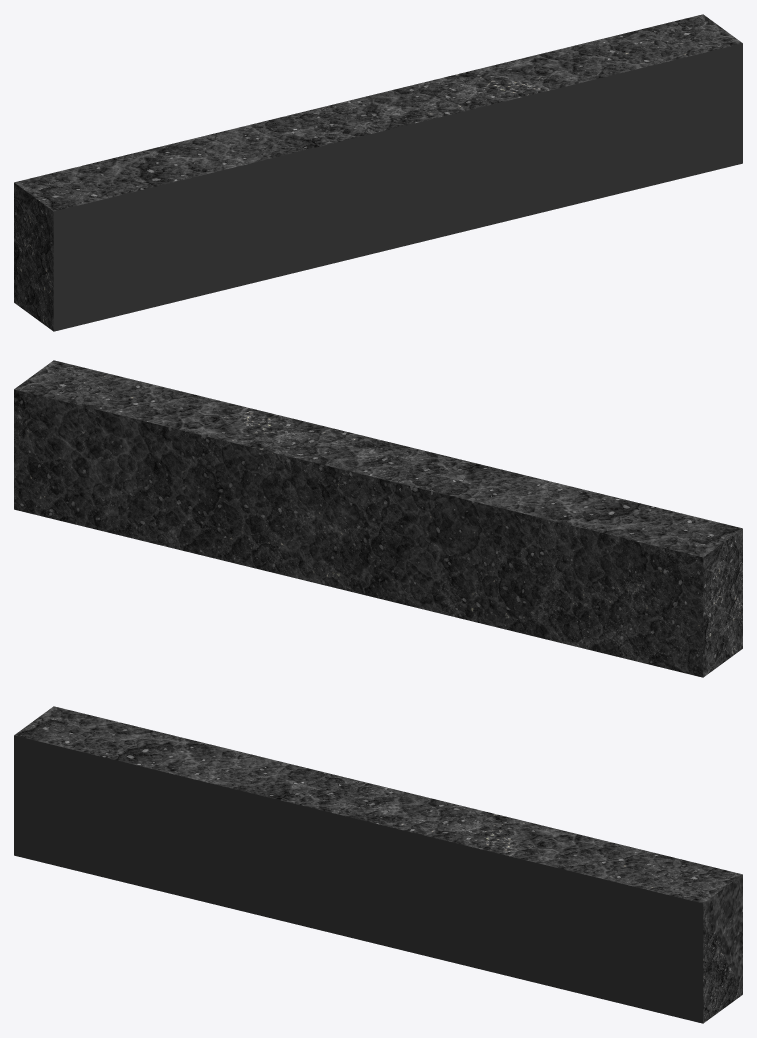
Rendered from SM_WallPlainRoof01.FBX.
3 renders of one model, top to bottom at view 1: azimuth 30°, elevation 25°; view 2: azimuth 150°, elevation 25°; view 3: azimuth 330°, elevation 25°, orthographic.
Visible parts, largest first — view 1: SM_WallPlainRoof01_LOD0; view 2: SM_WallPlainRoof01_LOD0; view 3: SM_WallPlainRoof01_LOD0.
Boxes of the visible parts, x1,y1,x2,y2 form: SM_WallPlainRoof01_LOD0: [14, 14, 742, 331]; SM_WallPlainRoof01_LOD0: [14, 360, 742, 677]; SM_WallPlainRoof01_LOD0: [14, 706, 742, 1023].
Bounding box in the file's own units: 300 × 30 × 49.99.
